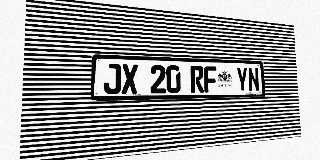0: (166, 65, 181, 93)
2: (150, 65, 166, 93)
F: (204, 66, 217, 92)
J: (103, 63, 121, 94)
N: (248, 67, 260, 92)
R: (190, 66, 204, 93)
X: (121, 64, 138, 94)
Y: (236, 67, 248, 92)
